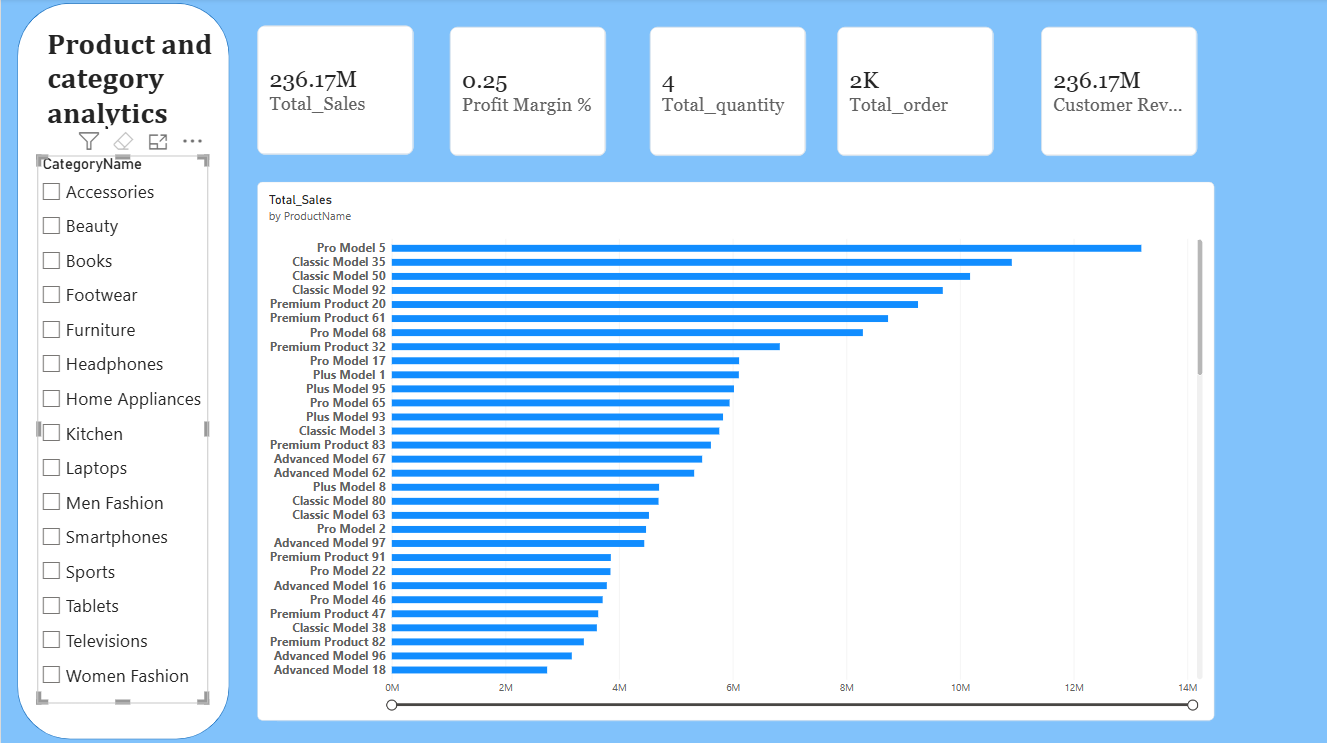

What the dashboard file says about the page in this screenshot:
{"tool":"powerbi","page":{"name":"Product and Category analytics","canvas":[1920,1080],"ordinal":3},"visuals":[{"type":"shape","box":[23.2,7.1,307.1,1066.1],"z":0},{"type":"textbox","box":[67.9,39.3,330.4,171.4],"z":1},{"type":"cardVisual","fields":{"Data":["OrderItems.Total_Sales"]},"box":[371.4,39.3,226.8,187.5],"z":2},{"type":"cardVisual","fields":{"Data":["OrderItems.Profit Margin %"]},"box":[650,41.1,226.8,187.5],"z":3},{"type":"cardVisual","fields":{"Data":["OrderItems.Total_quantity"]},"box":[939.3,41.1,226.8,187.5],"z":4},{"type":"cardVisual","fields":{"Data":["OrderItems.Total_order"]},"box":[1210.7,41.1,226.8,187.5],"z":5},{"type":"slicer","fields":{"Values":["Categories.CategoryName"]},"box":[51.8,228.6,248.2,792.9],"z":6},{"type":"cardVisual","fields":{"Data":["OrderItems.Customer Revune"]},"box":[1505.4,41.1,226.8,187.5],"z":7},{"type":"clusteredBarChart","fields":{"Category":["Products.ProductName"],"Y":["OrderItems.Total_Sales"]},"box":[371.4,266.1,1385.7,780.4],"z":8}]}

Visuals, with their boxes in screenshot pixels (x1, y1, x2, y2), scaled from the page's 1920x1080 canvas onto the 1327x743 screenshot:
shape: (16, 5, 228, 738)
textbox: (47, 27, 275, 145)
cardVisual - OrderItems.Total_Sales: (257, 27, 413, 156)
cardVisual - OrderItems.Profit Margin %: (449, 28, 606, 157)
cardVisual - OrderItems.Total_quantity: (649, 28, 806, 157)
cardVisual - OrderItems.Total_order: (837, 28, 994, 157)
slicer - Categories.CategoryName: (36, 157, 207, 703)
cardVisual - OrderItems.Customer Revune: (1040, 28, 1197, 157)
clusteredBarChart - Products.ProductName x OrderItems.Total_Sales: (257, 183, 1214, 720)
